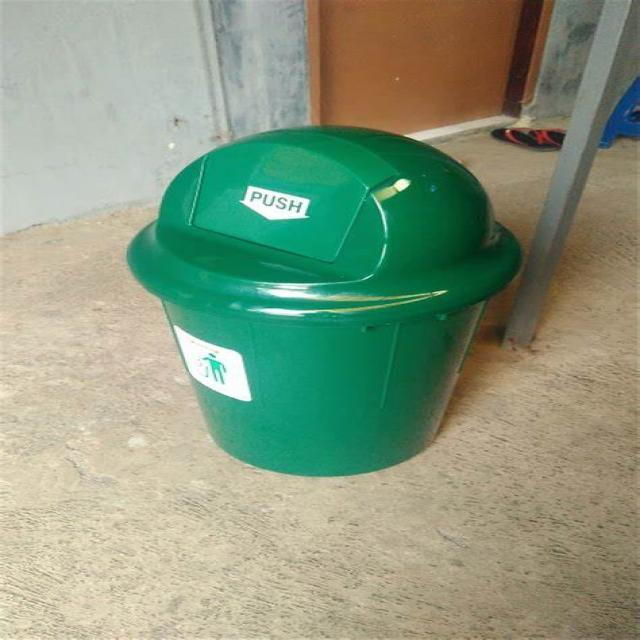garbage container: (97, 126, 577, 479)
